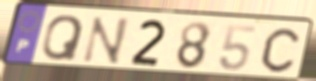2: (129, 19, 167, 68)
5: (217, 23, 258, 72)
8: (175, 20, 213, 71)
C: (259, 27, 301, 75)
N: (79, 15, 132, 66)
Q: (39, 13, 86, 62)
